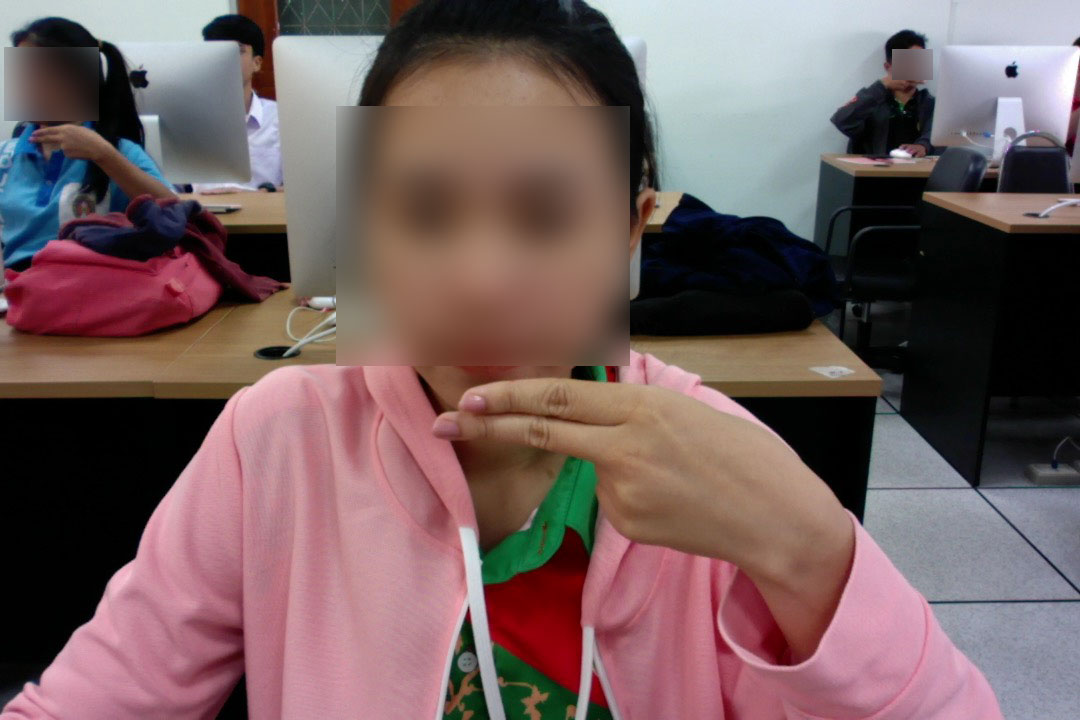hor: (415, 370, 852, 566)
